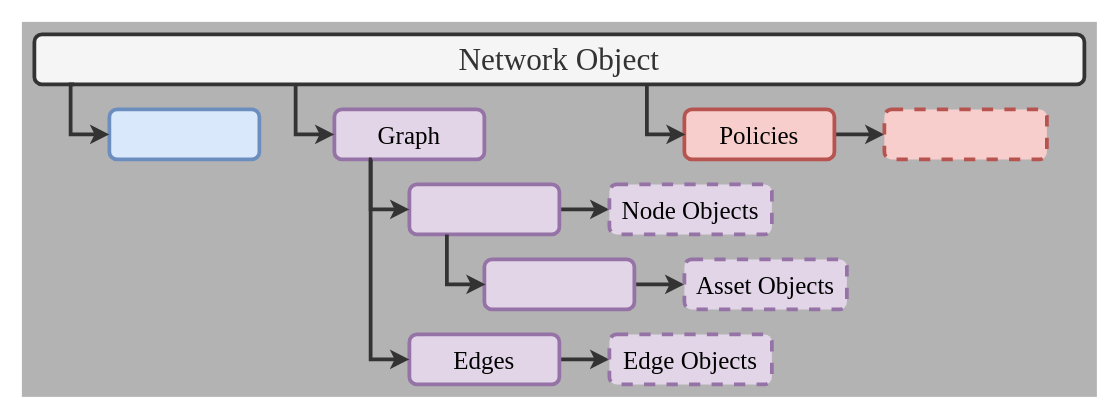
The diagram is 1118 pixels wide and 418 high, and some of its shapes have lost their labels. Each missing label, with the centre of its shape:
"Assets" goes at [559,284].
"Globals" goes at [184,134].
"Nodes" goes at [484,209].
"Policy Objects" goes at [965,134].
